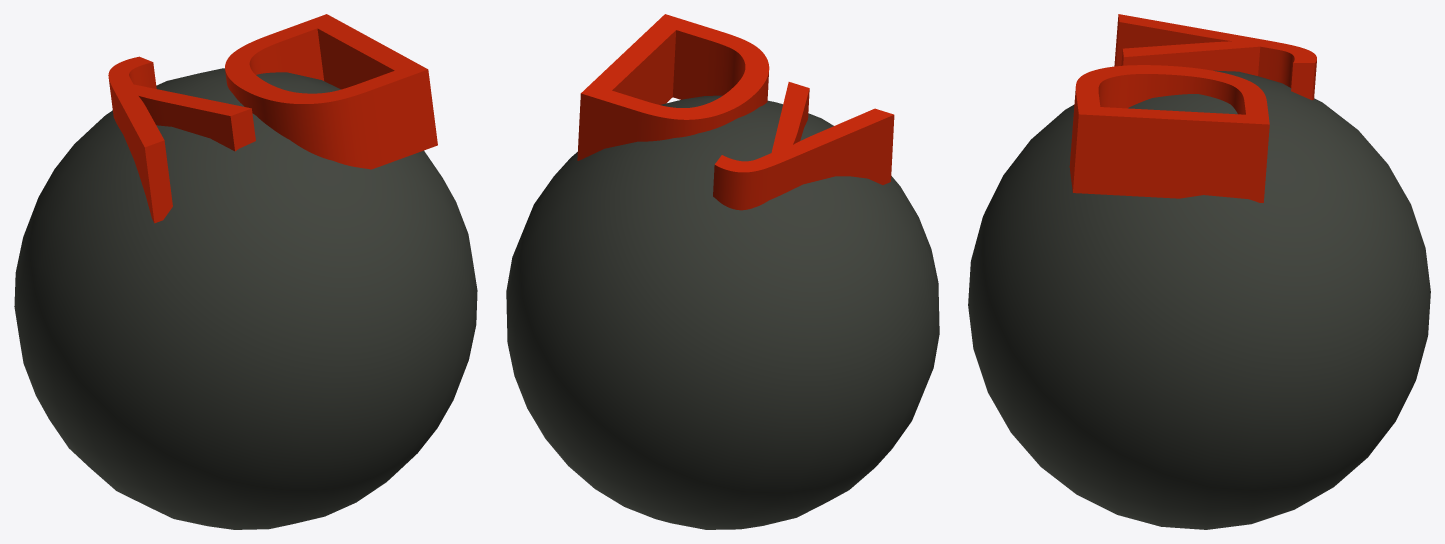
The picture shows the model from 3 angles, left to right: view 1: azimuth 30°, elevation 25°; view 2: azimuth 150°, elevation 25°; view 3: azimuth 270°, elevation 25°; orthographic projection. The views are drawn at different scales.
Parts seen in each view (by area): view 1: Dy; view 2: Dy; view 3: Dy.
Part boxes in pixels (x1=…): Dy: x1=14, y1=14, x2=477, y2=529; Dy: x1=506, y1=14, x2=939, y2=529; Dy: x1=968, y1=14, x2=1430, y2=529.
Bounding box in the file's own units: 38.63 × 41.8 × 38.71.
